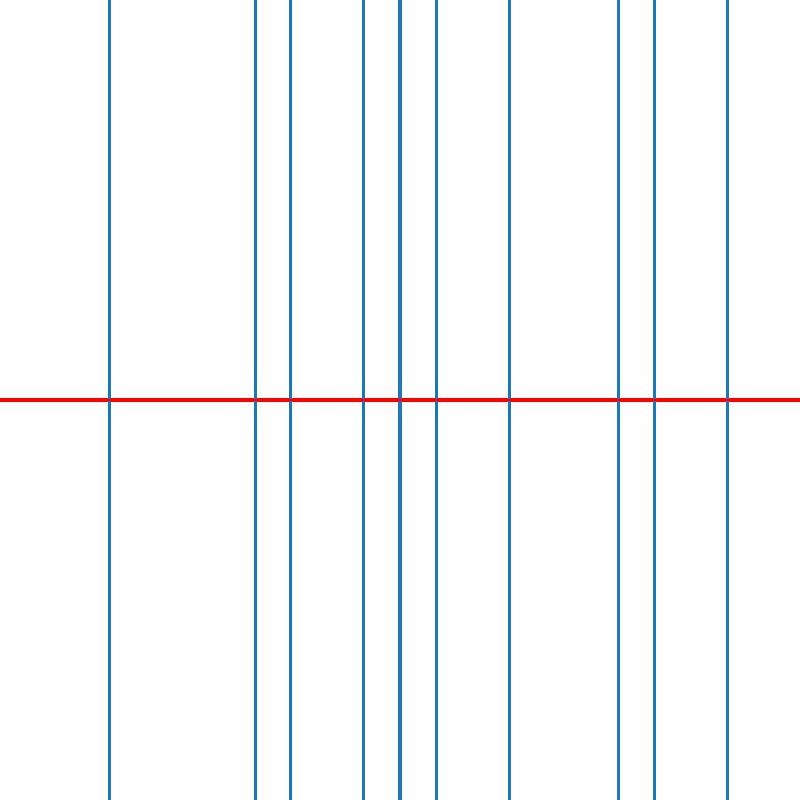root: (432, 396, 440, 404), (250, 396, 258, 404), (650, 396, 658, 404), (505, 396, 512, 404), (360, 396, 367, 404), (396, 396, 403, 404), (105, 396, 112, 404), (723, 396, 730, 404), (614, 396, 621, 404), (287, 396, 294, 404)
